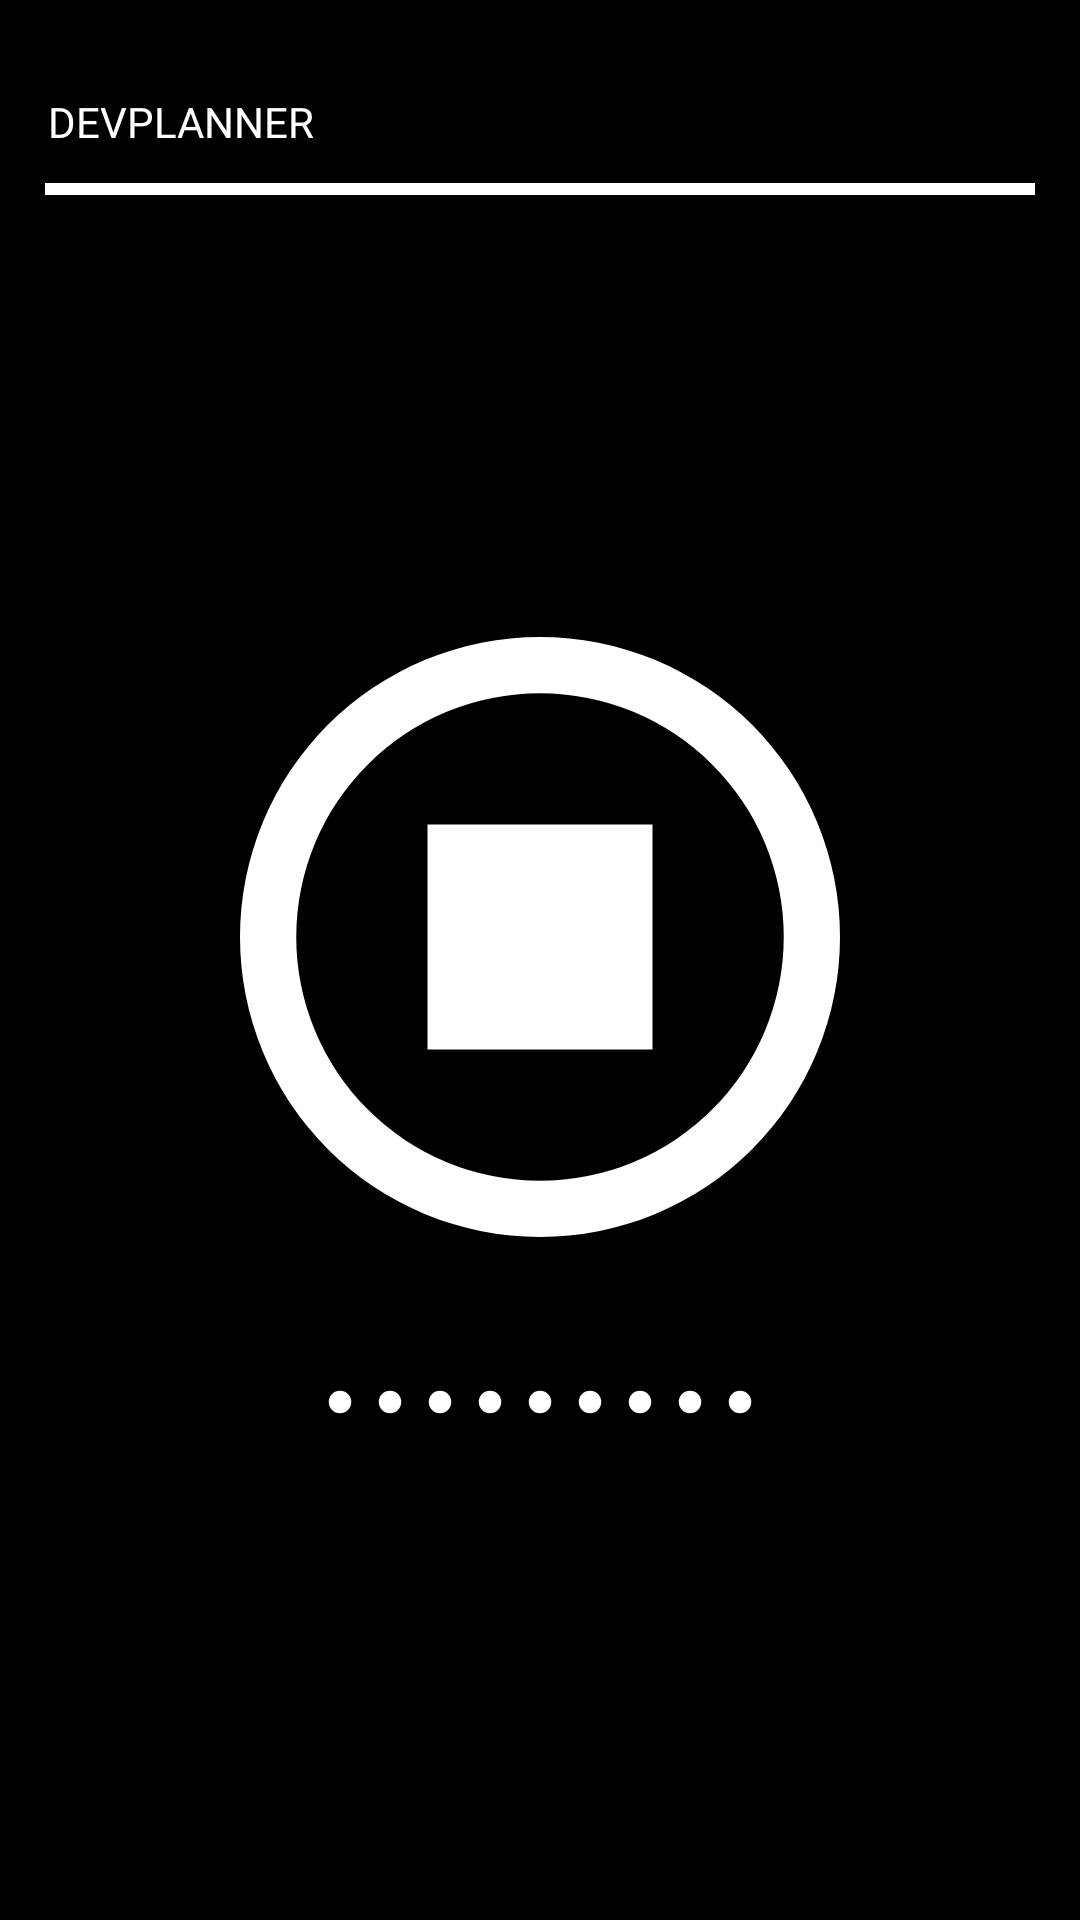

Screen size 1080*1920. Icon name, then its center in pixels as (x,y):
dots horizontal: (390,1402), (540,1402), (690,1402)
